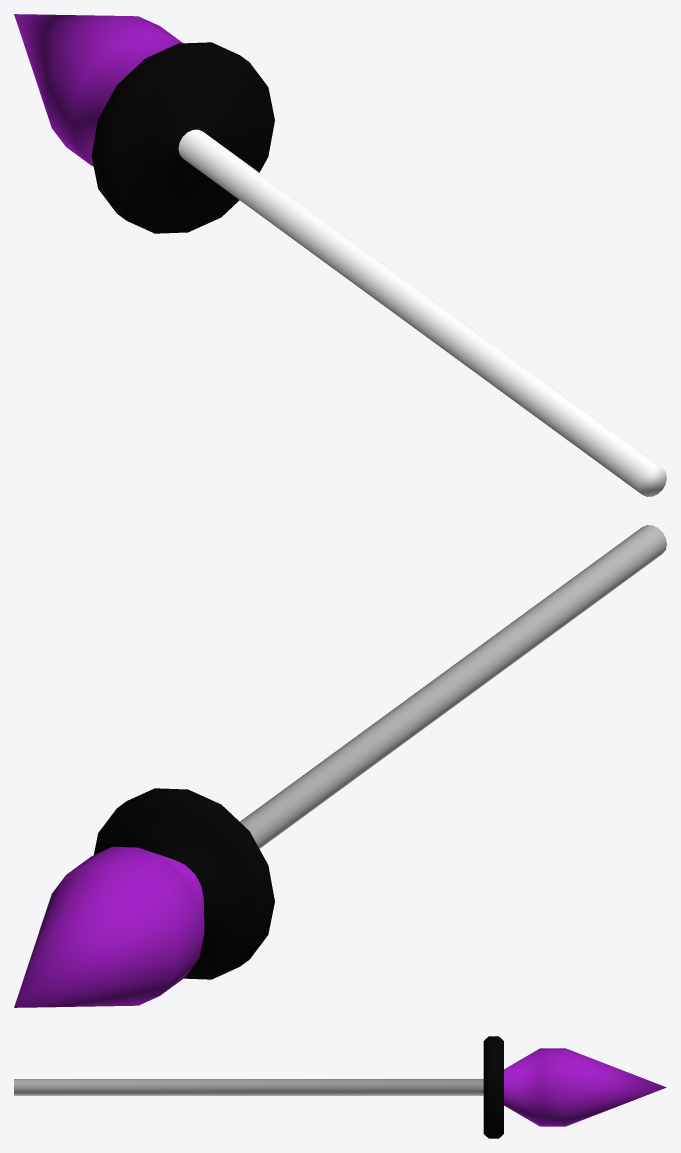
File: Staff - The Void Sniffer.fbx
3 views of the same model, one above another, from view 1: azimuth 30°, elevation 25°; view 2: azimuth 150°, elevation 25°; view 3: azimuth 270°, elevation 25° (orthographic). The views are drawn at different scales.
Parts seen in each view (by area): view 1: Staff - The Void Sniffer; view 2: Staff - The Void Sniffer; view 3: Staff - The Void Sniffer.
Boxes of the visible parts, x1=… form: Staff - The Void Sniffer: x1=14, y1=14, x2=666, y2=496; Staff - The Void Sniffer: x1=14, y1=525, x2=666, y2=1007; Staff - The Void Sniffer: x1=14, y1=1036, x2=666, y2=1138.
Bounding box in the file's own units: 489 × 489 × 3111.
